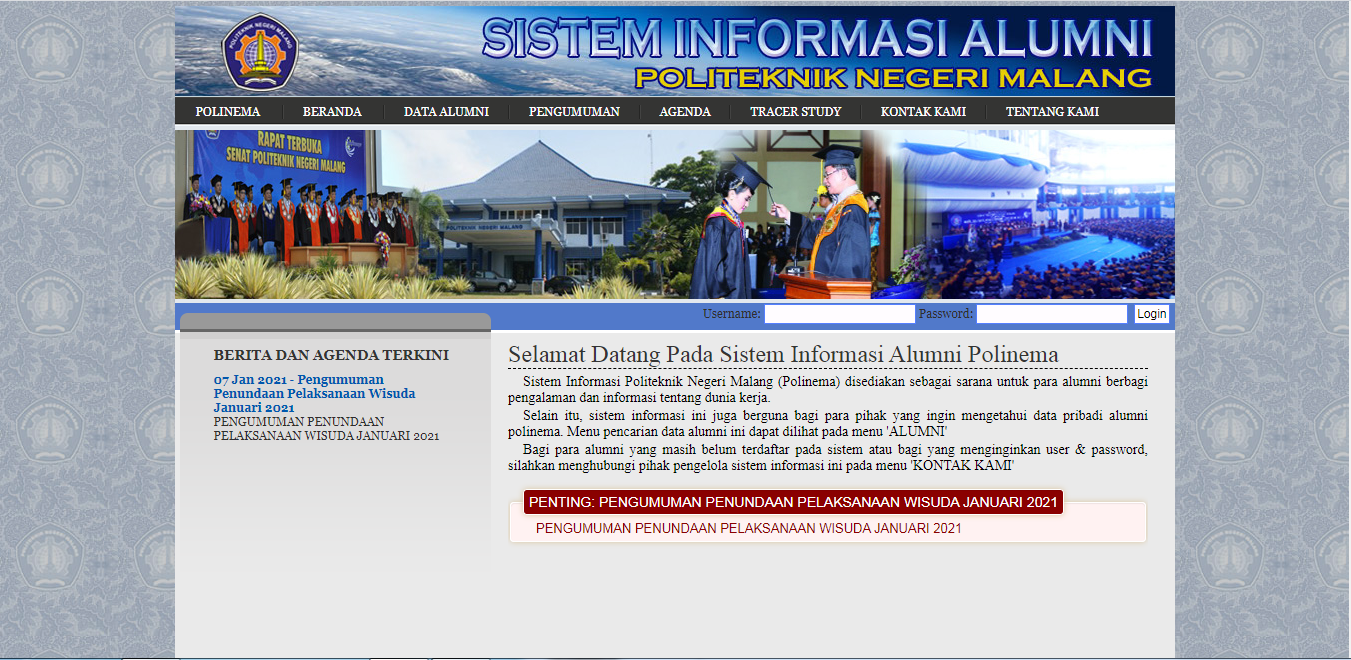Button: (1133, 303, 1174, 330)
Image: (173, 128, 1175, 302), (174, 5, 1175, 90), (213, 7, 307, 94)
Menu Bar: (173, 96, 1176, 125)
Side Bar: (172, 311, 497, 660)
Text Field: (974, 300, 1129, 327), (762, 303, 921, 328)
